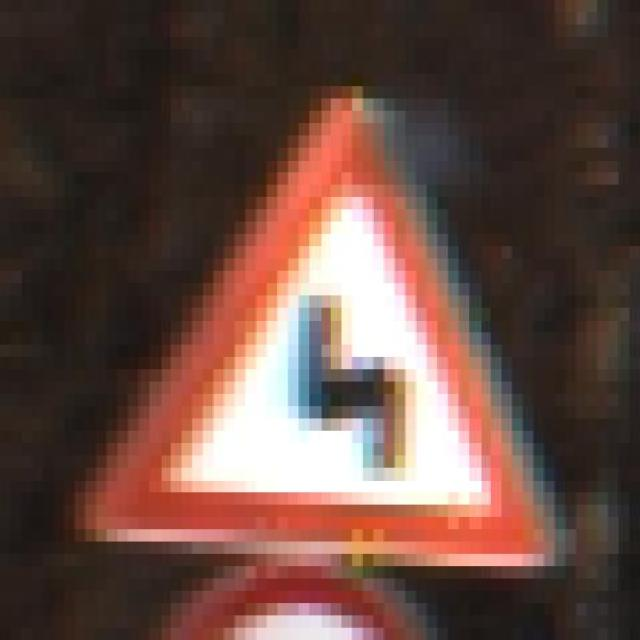Left Zig Zag Traffic: (64, 74, 576, 566)
